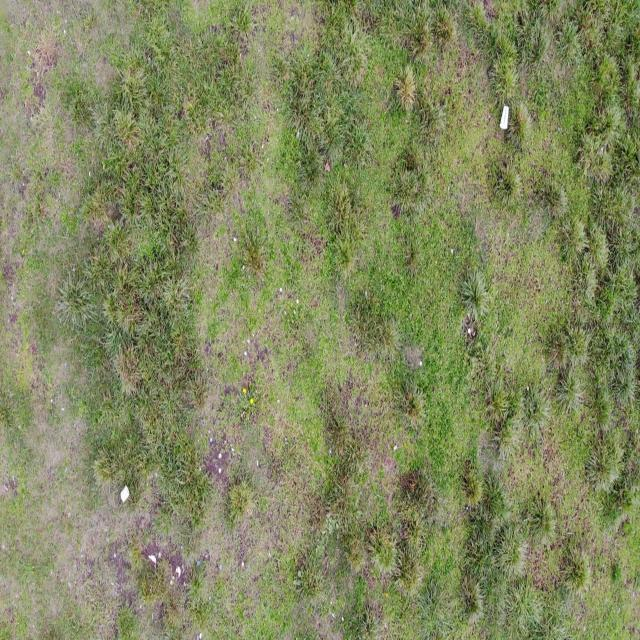rubbish: (119, 483, 131, 504), (500, 103, 510, 127)
